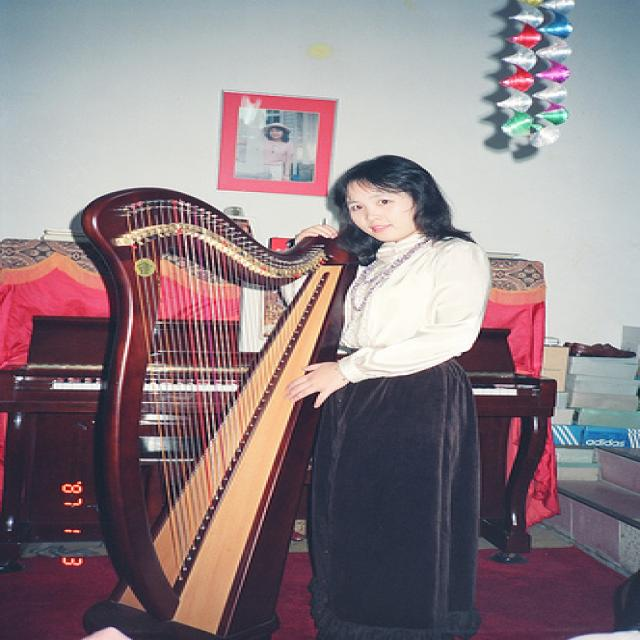harp: (72, 182, 366, 638)
